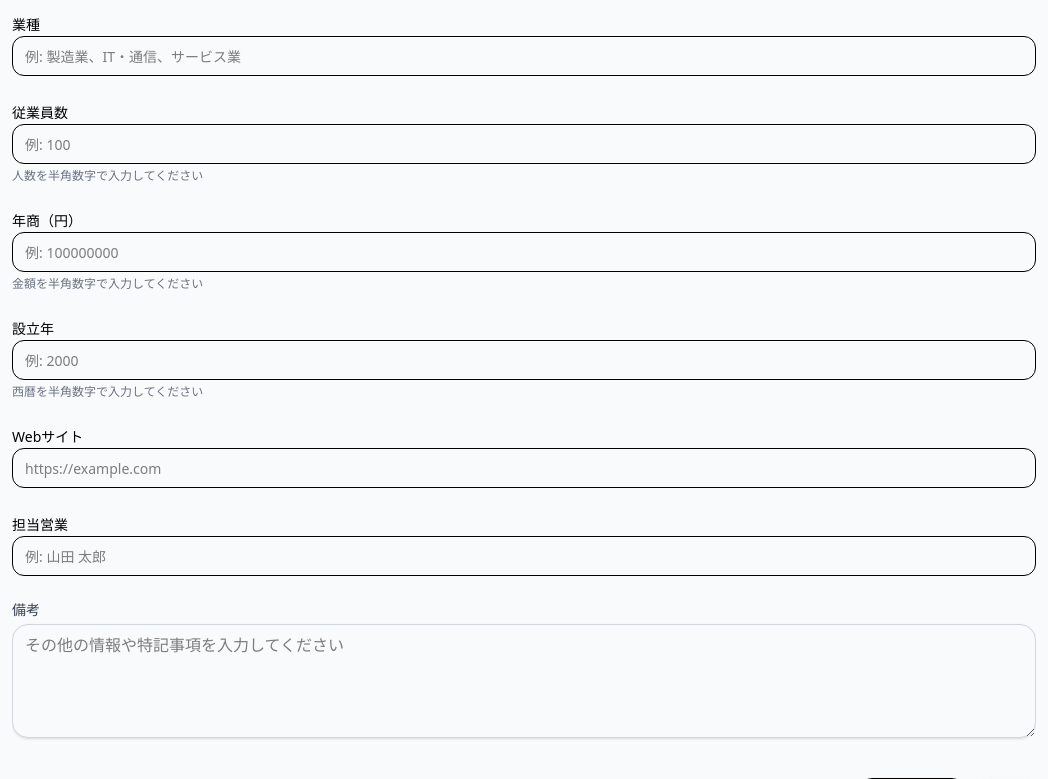
it: CustomerForm › バリデーション › 設立年に1800年以前を入力すると、エラーが表示される
In the number field labelled "設立年": [524, 360] box [12,340,1036,380], type "1799"
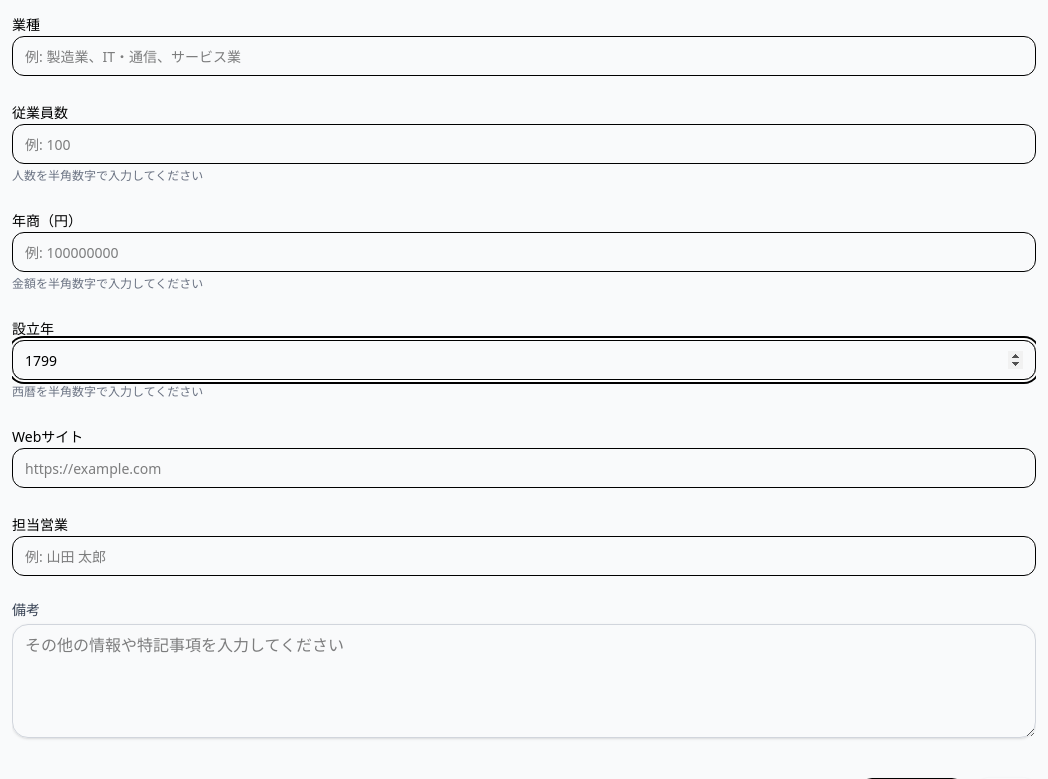
Press Tab
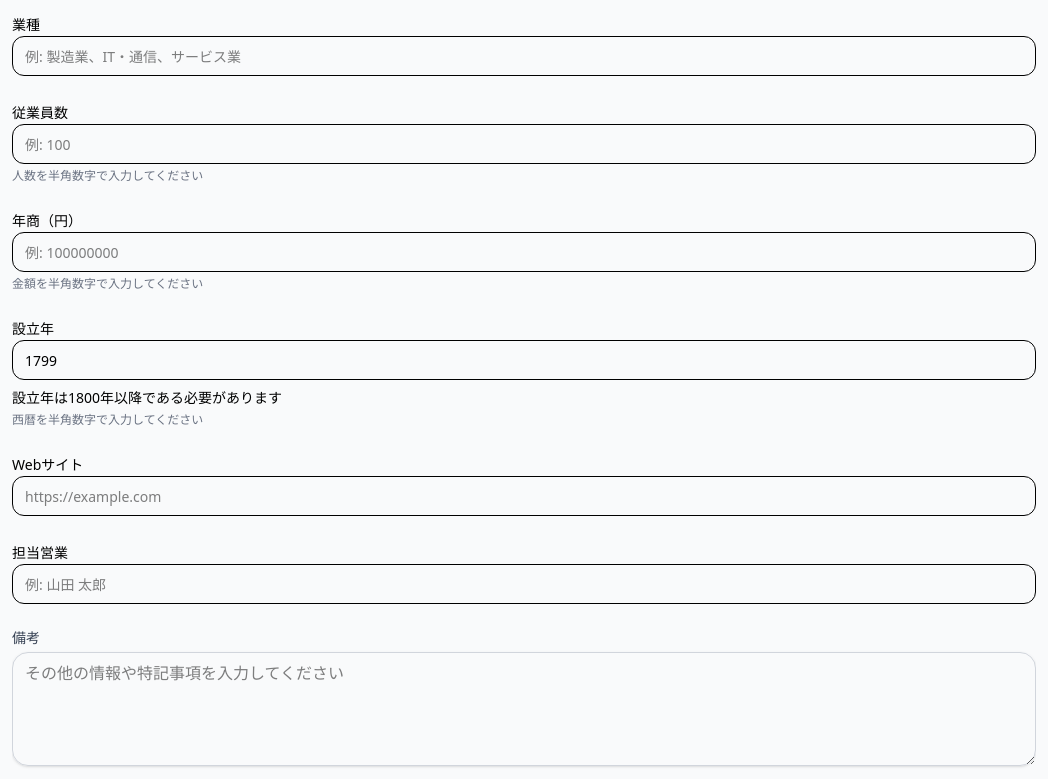
Now the text "設立年は1800年以降である必要があります" is shown, box [12,388,282,407]
